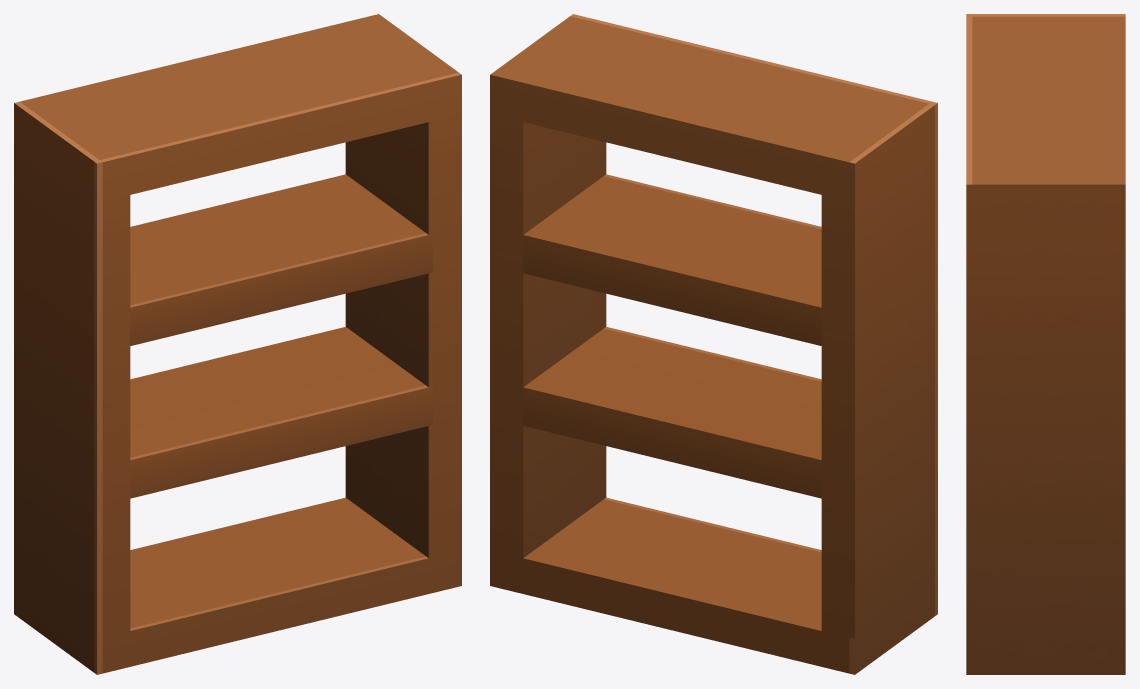
File: BookShelfB.FBX
The picture shows the model from 3 angles, left to right: view 1: azimuth 30°, elevation 25°; view 2: azimuth 150°, elevation 25°; view 3: azimuth 270°, elevation 25°; orthographic projection. The views are drawn at different scales.
Parts seen in each view (by area): view 1: ShelfB; view 2: ShelfB; view 3: ShelfB.
Part boxes in pixels (box(x1,y1,x2,y2)): ShelfB: box(14, 14, 461, 674); ShelfB: box(490, 14, 937, 674); ShelfB: box(966, 14, 1125, 674).
Size of the model in its own units: 0.9308 by 1.25 by 0.3666.
